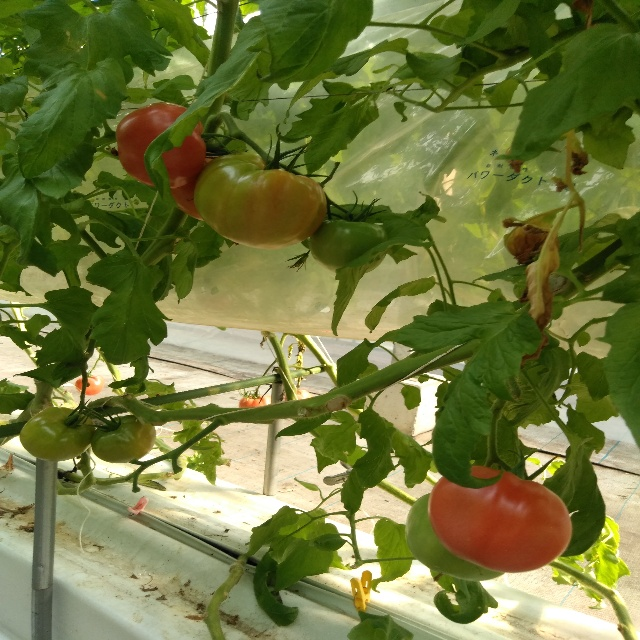b_fully_ripened: (429, 465, 572, 573), (116, 102, 206, 188)
b_green: (406, 492, 505, 581), (309, 218, 390, 276), (18, 406, 96, 462), (91, 415, 156, 464)
b_half_ripened: (194, 151, 328, 250)
